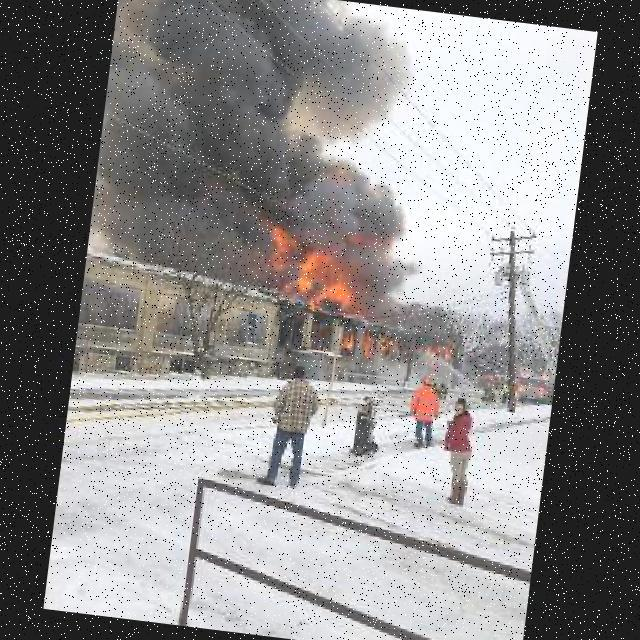Fire: (268, 226, 369, 313), (341, 331, 357, 349), (379, 338, 395, 354), (427, 344, 444, 356)
Smoke: (84, 0, 453, 292)
